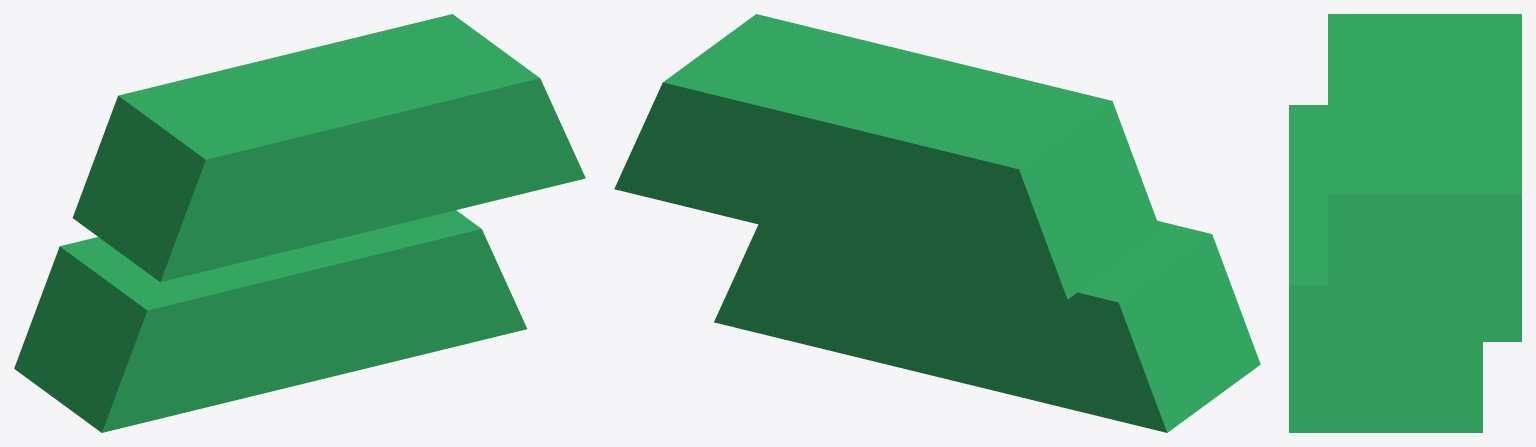
Rendered from mythril_bar.glb.
3 renders of one model, left to right at view 1: azimuth 30°, elevation 25°; view 2: azimuth 150°, elevation 25°; view 3: azimuth 270°, elevation 25°, orthographic. The views are drawn at different scales.
Parts seen in each view (by area): view 1: verdite_bar_v0; view 2: verdite_bar_v0; view 3: verdite_bar_v0.
Part boxes in pixels (x1,y1,x2,y2): verdite_bar_v0: (14, 14, 585, 432); verdite_bar_v0: (614, 14, 1260, 432); verdite_bar_v0: (1289, 14, 1521, 432).
Bounding box in the file's own units: 0.33 × 0.145 × 0.12.
